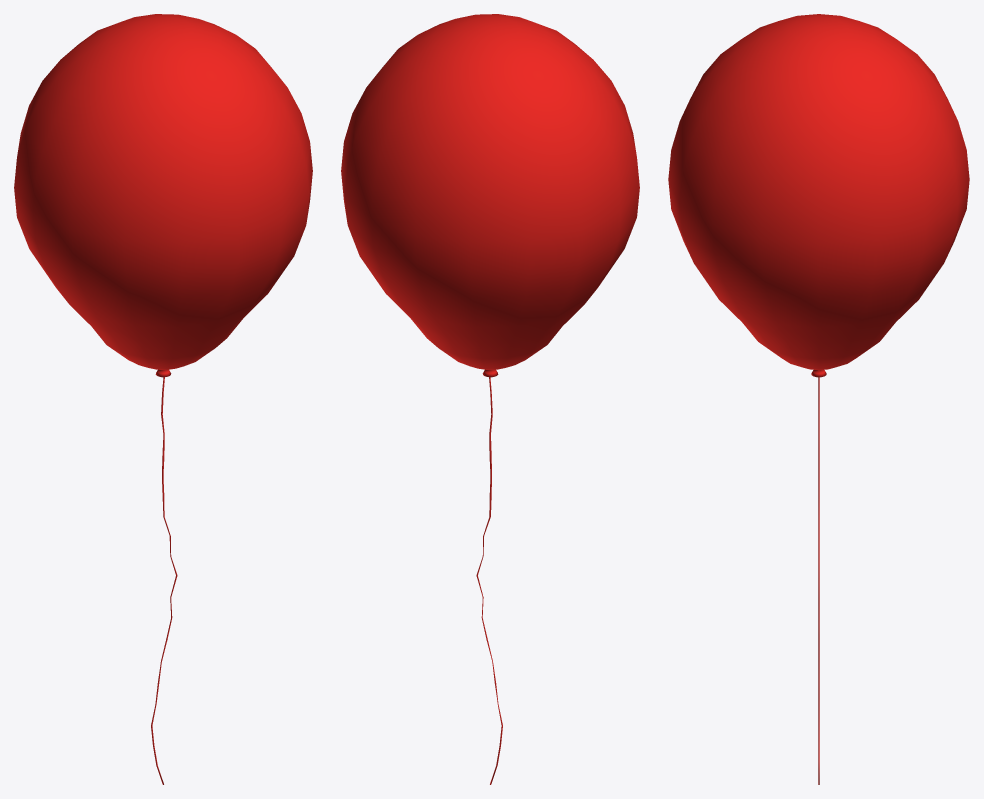
3 renders of one model, left to right at view 1: azimuth 30°, elevation 25°; view 2: azimuth 150°, elevation 25°; view 3: azimuth 270°, elevation 25°, orthographic.
Visible parts, largest first — view 1: baloon; view 2: baloon; view 3: baloon.
Boxes of the visible parts, x1=… form: baloon: x1=14, y1=14, x2=312, y2=784; baloon: x1=341, y1=14, x2=639, y2=784; baloon: x1=668, y1=14, x2=969, y2=784.
Bounding box in the file's own units: 1.36 × 3.77 × 1.36.
